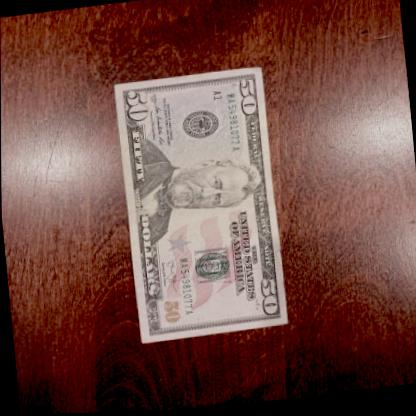fifty-front: (113, 68, 289, 348)
